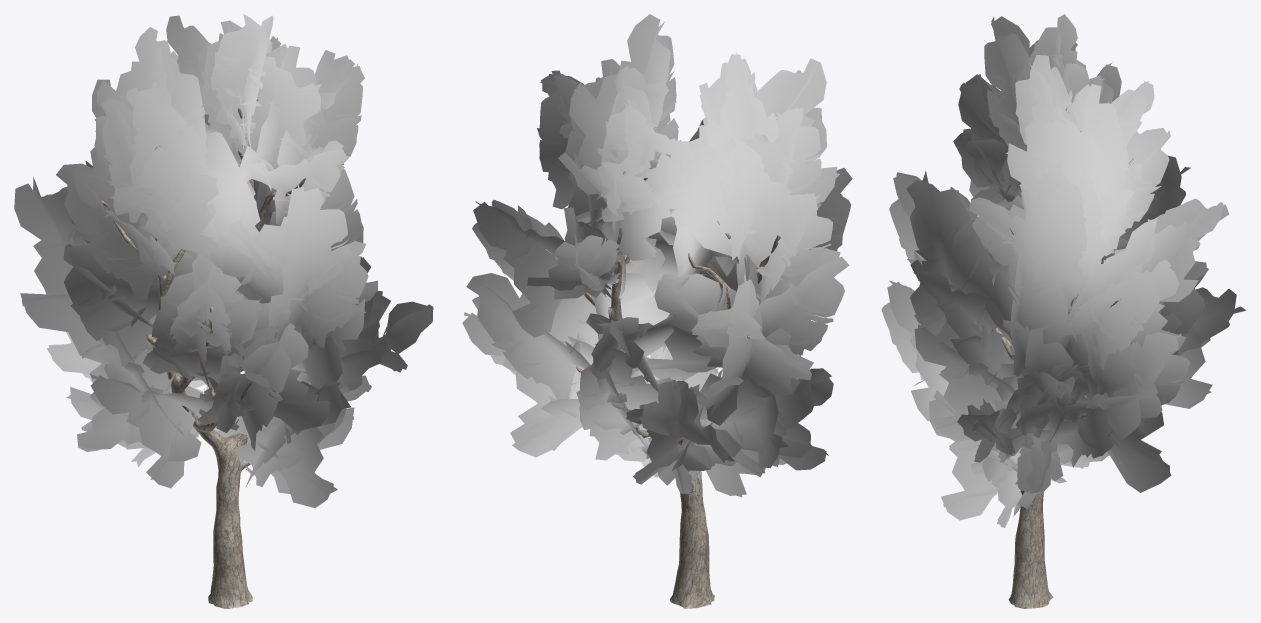
The model's file is SM_Tree_02.fbx.
3 renders of one model, left to right at view 1: azimuth 30°, elevation 25°; view 2: azimuth 150°, elevation 25°; view 3: azimuth 270°, elevation 25°, orthographic. The views are drawn at different scales.
Visible parts, largest first — view 1: SM_Tree_02_LOD0; view 2: SM_Tree_02_LOD0; view 3: SM_Tree_02_LOD0.
Part boxes in pixels (x1,y1,x2,y2): SM_Tree_02_LOD0: [14, 14, 433, 608]; SM_Tree_02_LOD0: [462, 14, 852, 608]; SM_Tree_02_LOD0: [881, 14, 1246, 608].
Size of the model in its own units: 891 by 849 by 1428.
2 materials, 1 textured.
